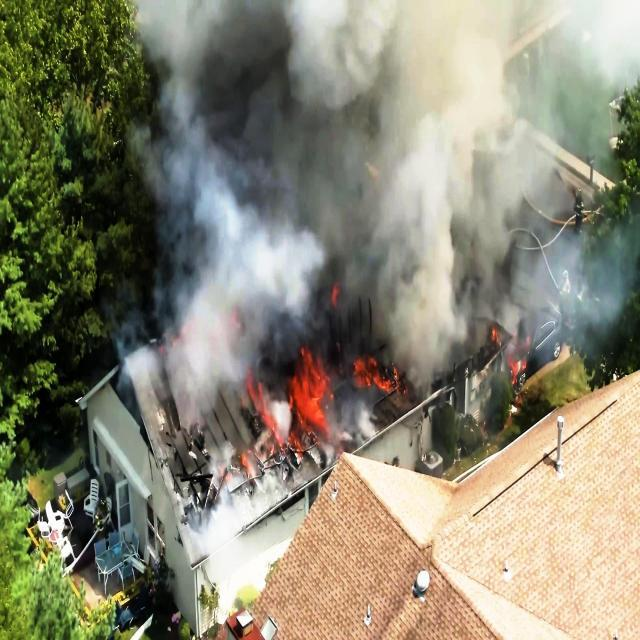Fire: (233, 359, 292, 489), (292, 338, 326, 435), (486, 322, 532, 389), (352, 360, 410, 400)
Smoke: (136, 0, 634, 343), (118, 348, 233, 438)
